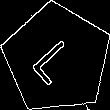L_NE: (28, 31, 85, 87)
